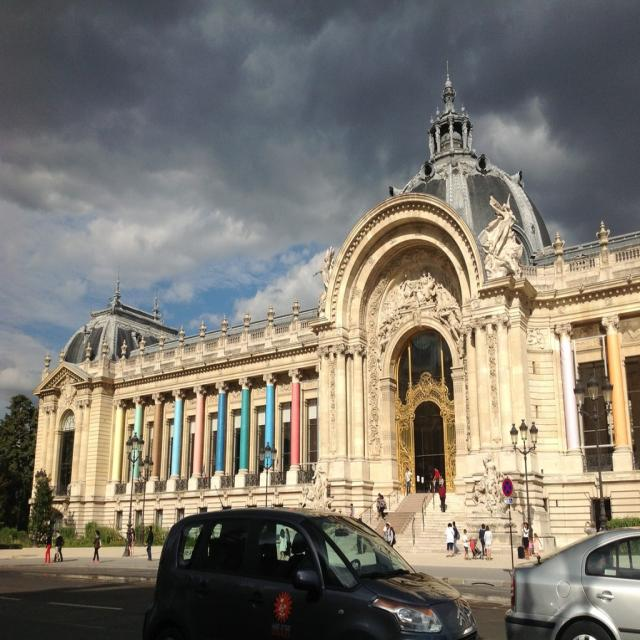car: (139, 501, 456, 633)
